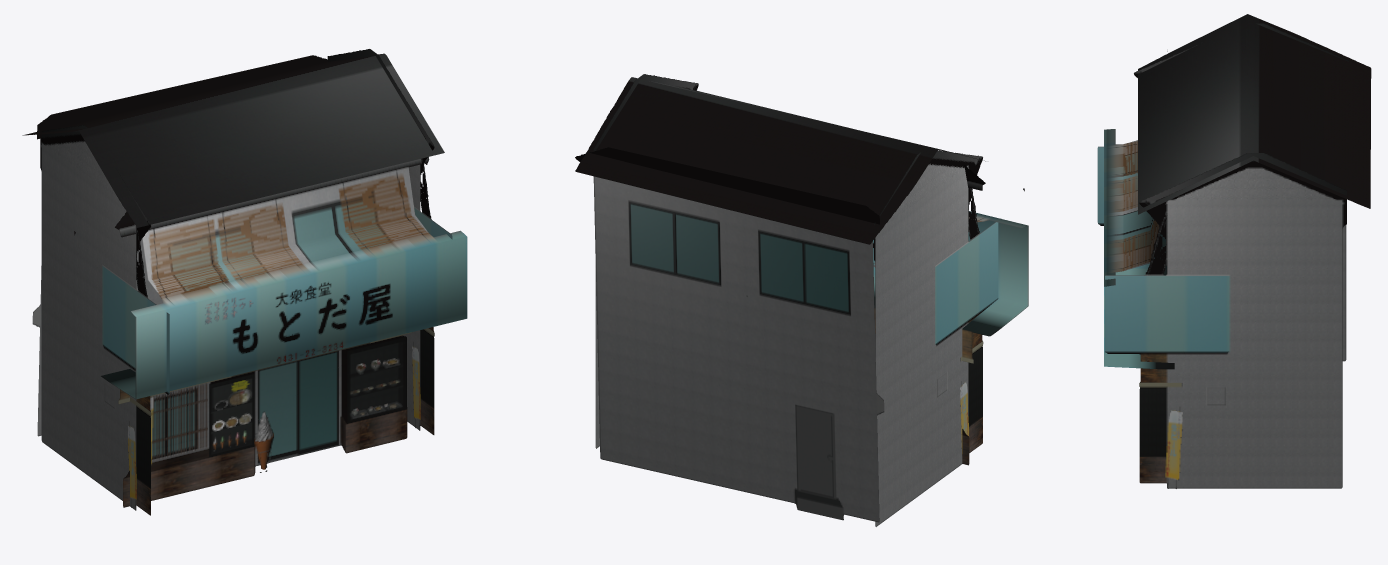
The model's file is restaurant_ikeda_000_low.fbx.
3 views of the same model, side by side, from view 1: azimuth 30°, elevation 25°; view 2: azimuth 150°, elevation 25°; view 3: azimuth 270°, elevation 25° (orthographic). The views are drawn at different scales.
Visible parts, largest first — view 1: pCube3; view 2: pCube3; view 3: pCube3.
Part boxes in pixels (x1=…): pCube3: x1=22, y1=49, x2=467, y2=515; pCube3: x1=575, y1=74, x2=1028, y2=526; pCube3: x1=1097, y1=14, x2=1371, y2=488.
Bounding box in the file's own units: 10.8 × 9.6 × 6.73.
1 material, 1 textured.
